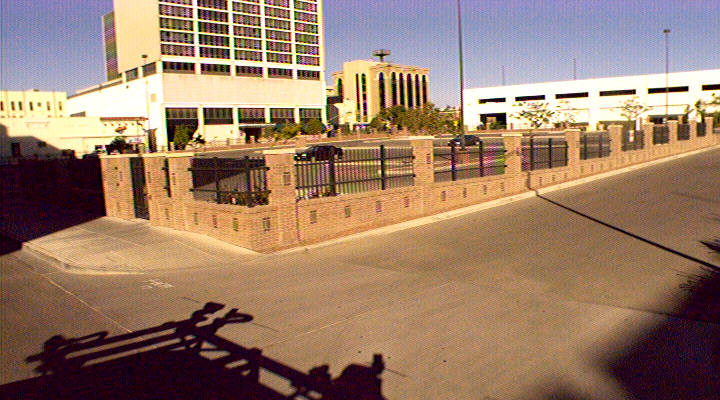Ramp: (71, 232, 248, 278)
